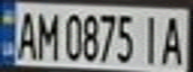0: (60, 9, 84, 62)
5: (115, 10, 139, 64)
7: (97, 10, 118, 63)
8: (78, 10, 100, 62)
A: (157, 11, 190, 66), (12, 7, 39, 61)
I: (139, 11, 166, 65)
M: (33, 7, 60, 61)
